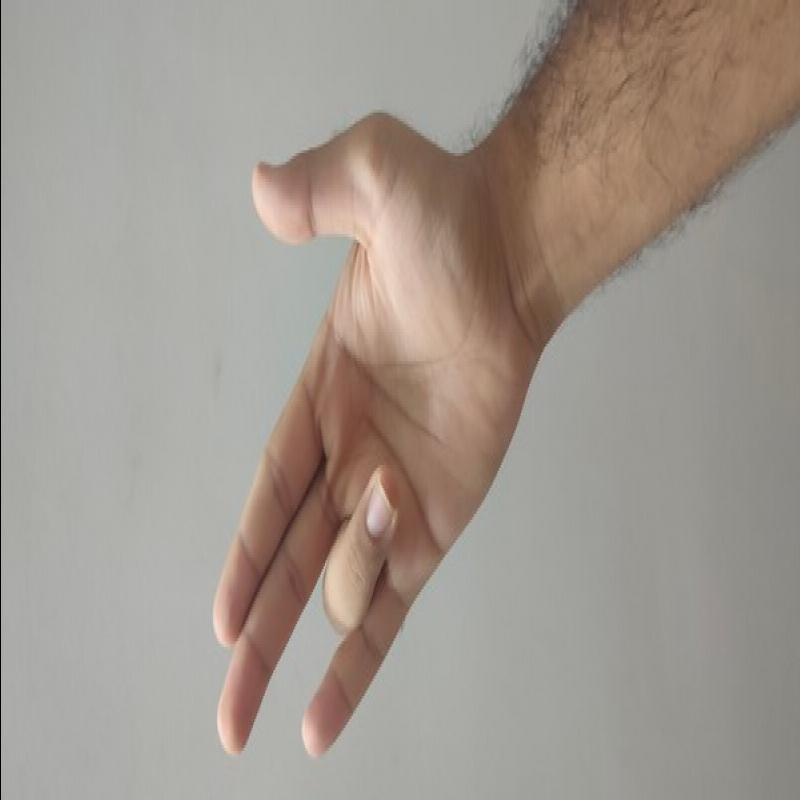Pathaaka: (161, 100, 515, 769)
